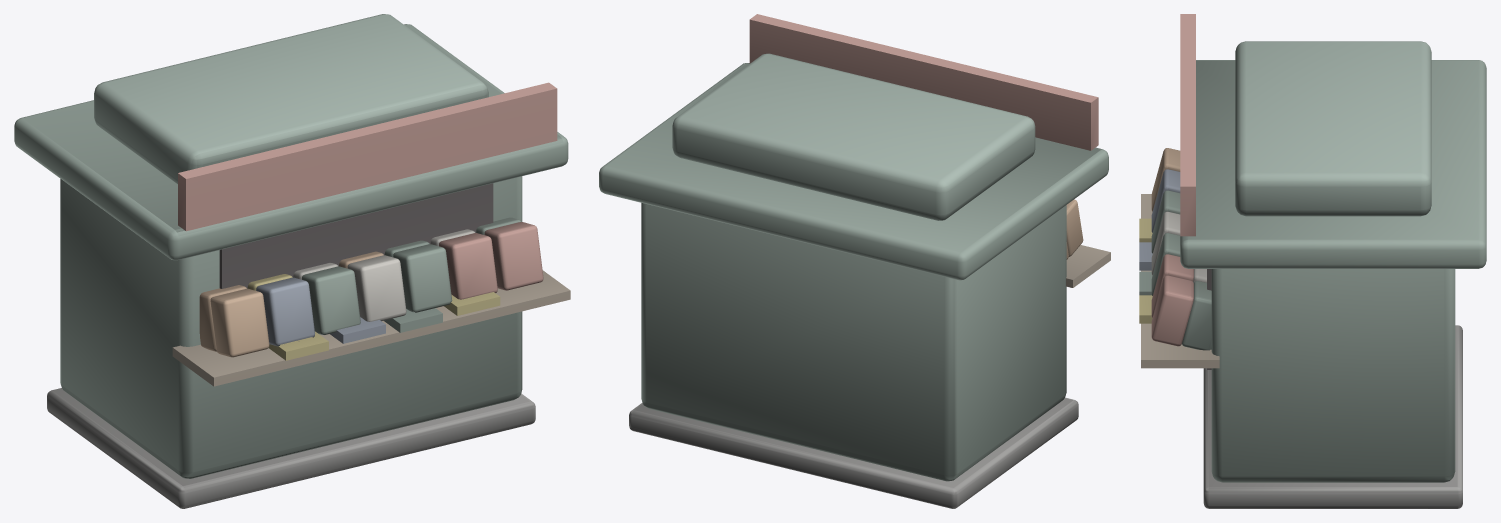
File: newsstand.glb
3 views of the same model, side by side, from view 1: azimuth 30°, elevation 25°; view 2: azimuth 150°, elevation 25°; view 3: azimuth 270°, elevation 25° (orthographic). The views are drawn at different scales.
Size of the model in its own units: 2.8 by 2.3 by 2.21.
